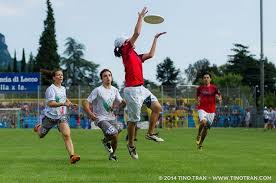disc: (142, 13, 167, 27)
